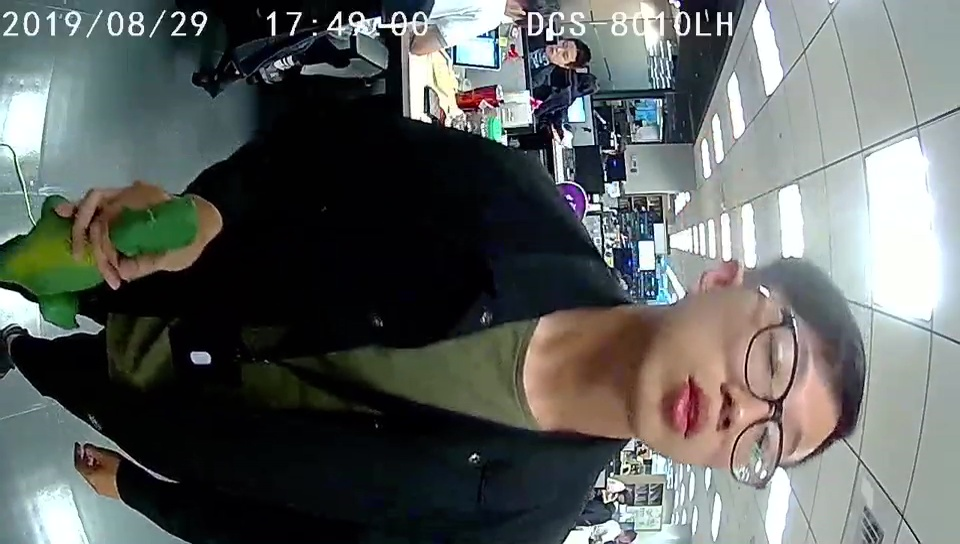rex: (4, 193, 198, 331)
